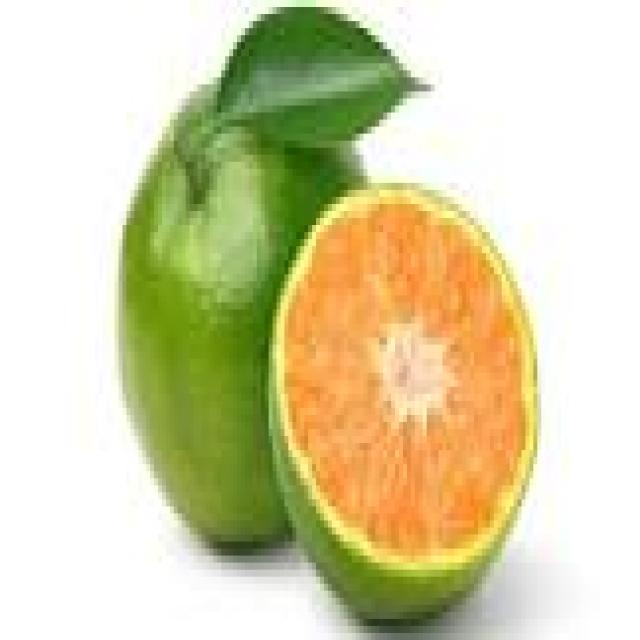orange: (269, 190, 537, 618)
